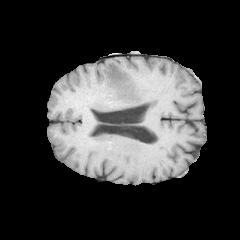glioma: (102, 62, 148, 109)
